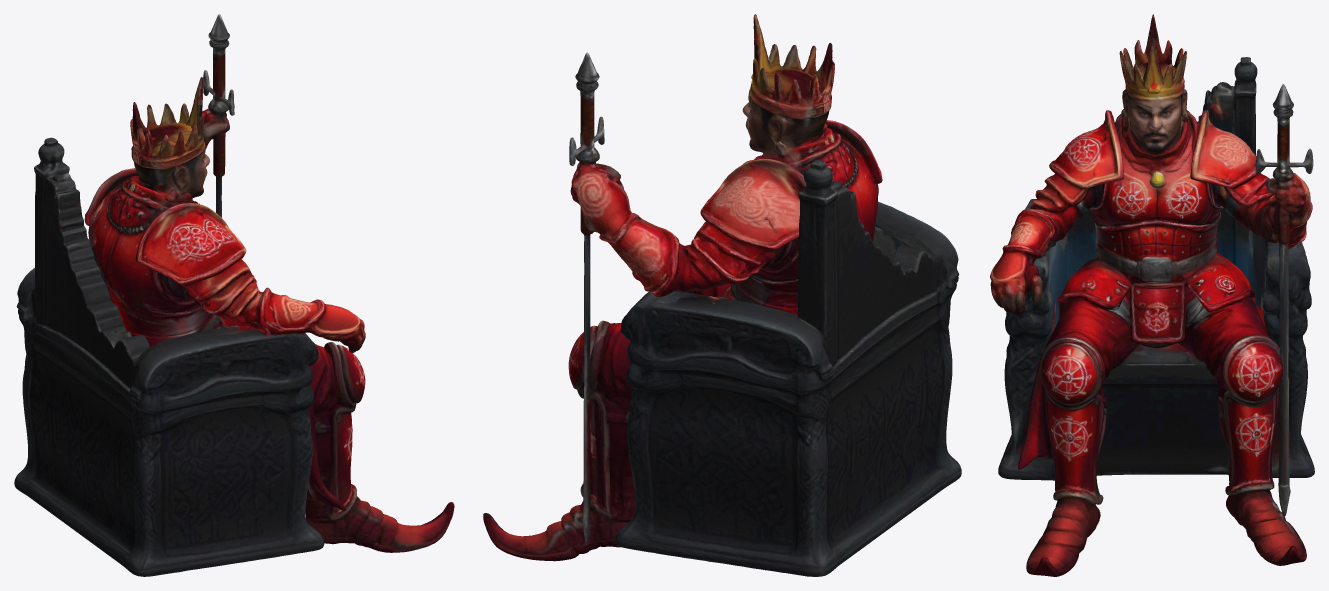
File: modelo20.glb
The picture shows the model from 3 angles, left to right: view 1: azimuth 30°, elevation 25°; view 2: azimuth 150°, elevation 25°; view 3: azimuth 270°, elevation 25°; orthographic projection. The views are drawn at different scales.
Parts seen in each view (by area): view 1: tripo_node_842991ea-36d6-49f6-91b4-835fdce1a9a2; view 2: tripo_node_842991ea-36d6-49f6-91b4-835fdce1a9a2; view 3: tripo_node_842991ea-36d6-49f6-91b4-835fdce1a9a2.
Part boxes in pixels (<box>): tripo_node_842991ea-36d6-49f6-91b4-835fdce1a9a2: <box>14,14,454,576</box>; tripo_node_842991ea-36d6-49f6-91b4-835fdce1a9a2: <box>483,14,961,576</box>; tripo_node_842991ea-36d6-49f6-91b4-835fdce1a9a2: <box>990,14,1314,576</box>.
Bounding box in the file's own units: 0.723 × 1 × 0.6395.
Materials: 1 (1 with a texture image).
